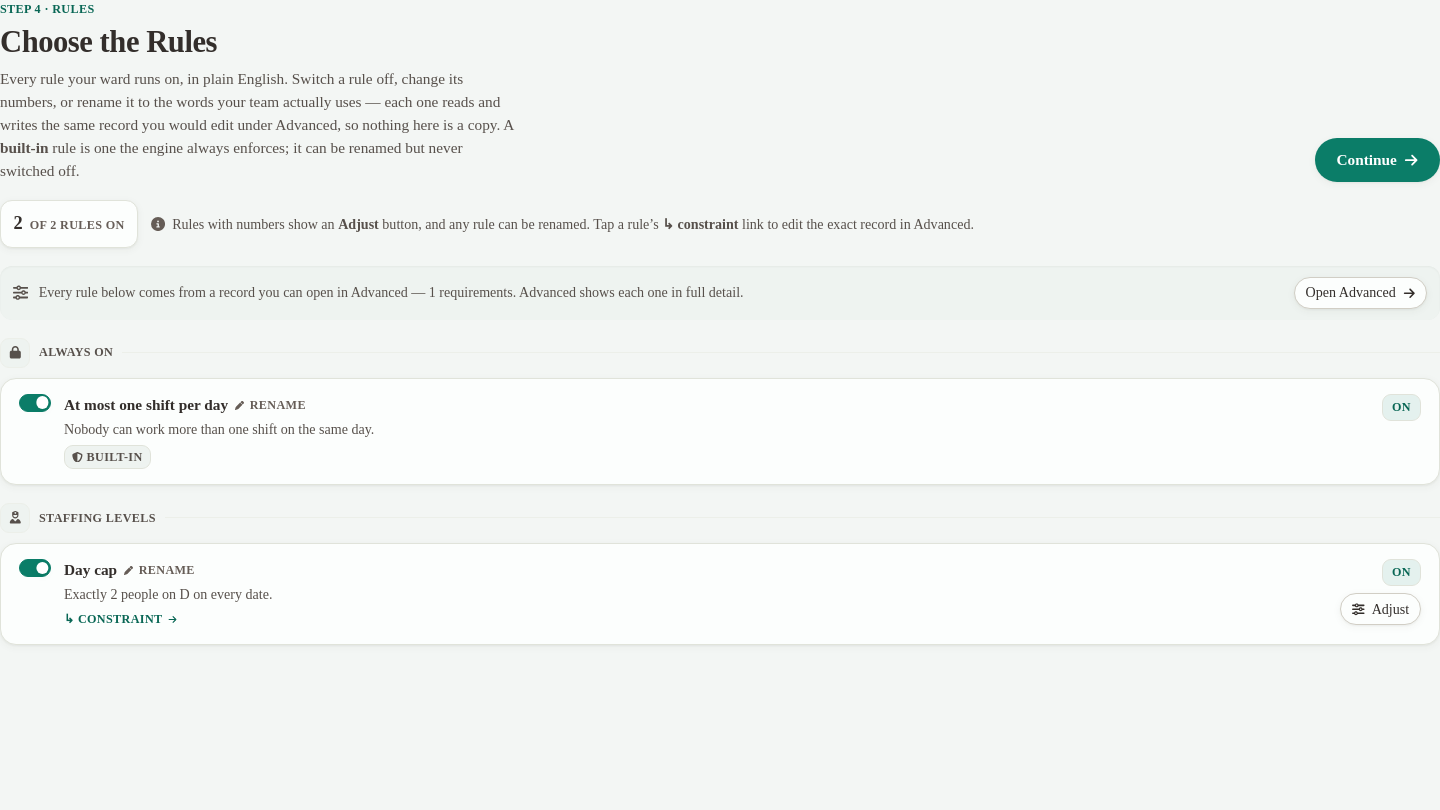
Test: RulesScreen — the adjustment band › exposes the Adjust toggle as a real disclosure over the band
Step 1. Click the button with test id "rule-adjust-toggle-requirements:r1" → (1381, 610), box [1340,594,1421,626]
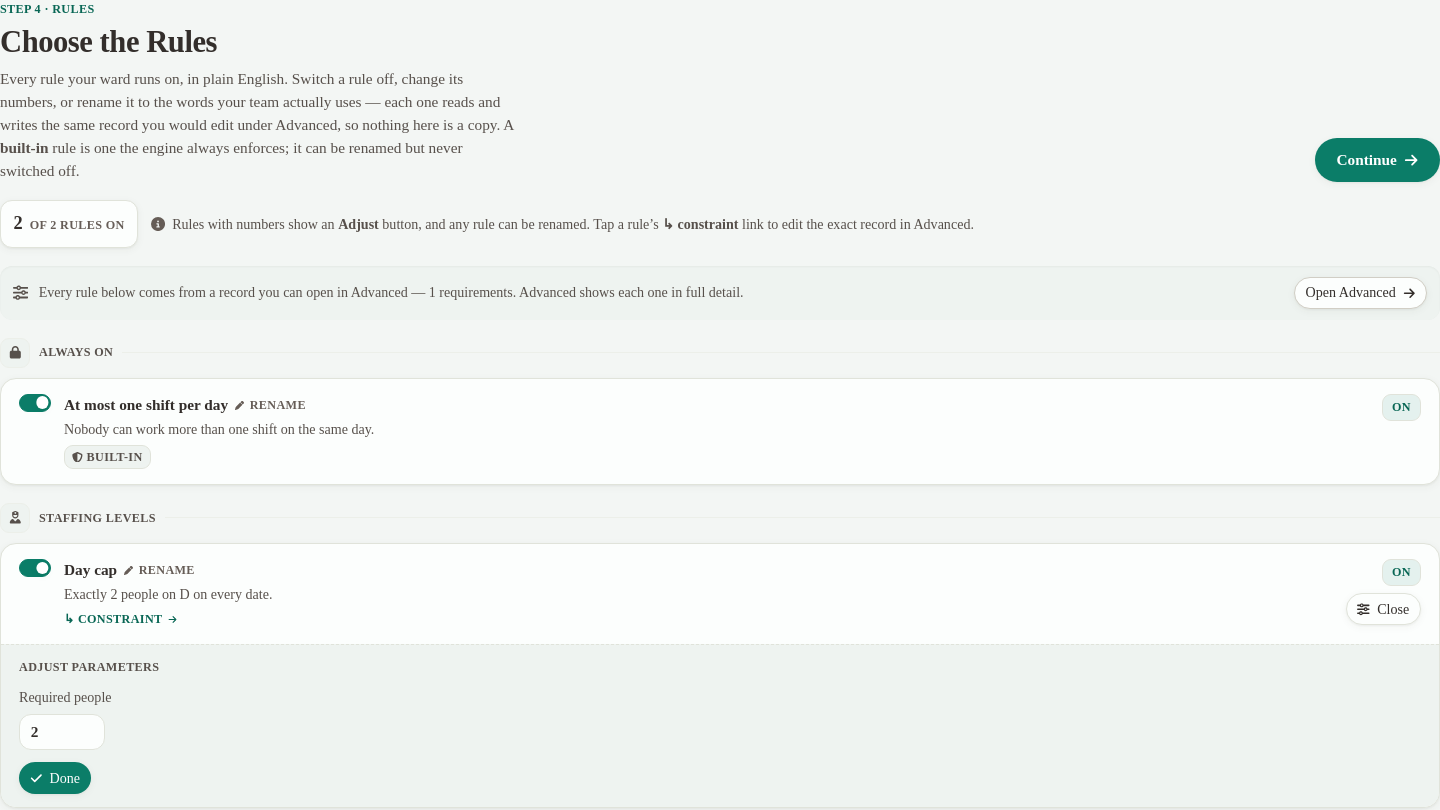
Expected: the button with test id "rule-adjust-toggle-requirements:r1" is expanded, [1346,594,1421,626]
